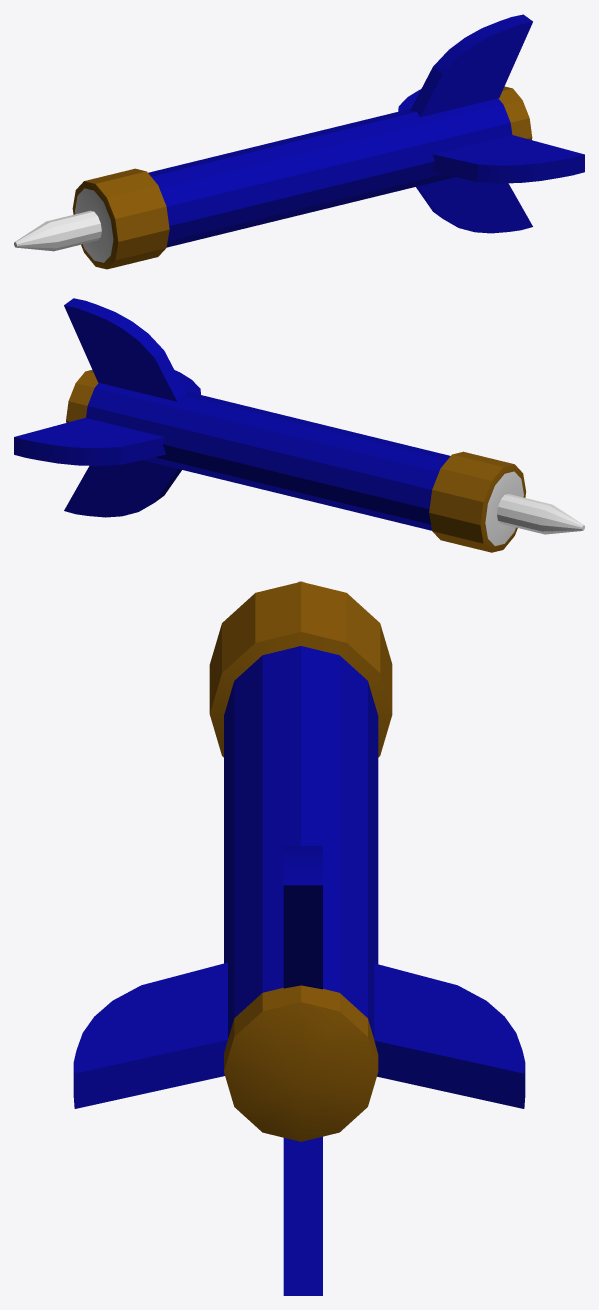
Rendered from dardo.fbx.
The picture shows the model from 3 angles, top to bottom: view 1: azimuth 30°, elevation 25°; view 2: azimuth 150°, elevation 25°; view 3: azimuth 270°, elevation 25°; orthographic projection. The views are drawn at different scales.
Parts seen in each view (by area): view 1: pCube5; view 2: pCube5; view 3: pCube5.
Part boxes in pixels (bbox=[...]): pCube5: bbox=[14, 14, 584, 269]; pCube5: bbox=[14, 298, 584, 552]; pCube5: bbox=[73, 581, 525, 1295].
Bounding box in the file's own units: 15.36 × 5.89 × 5.85.
